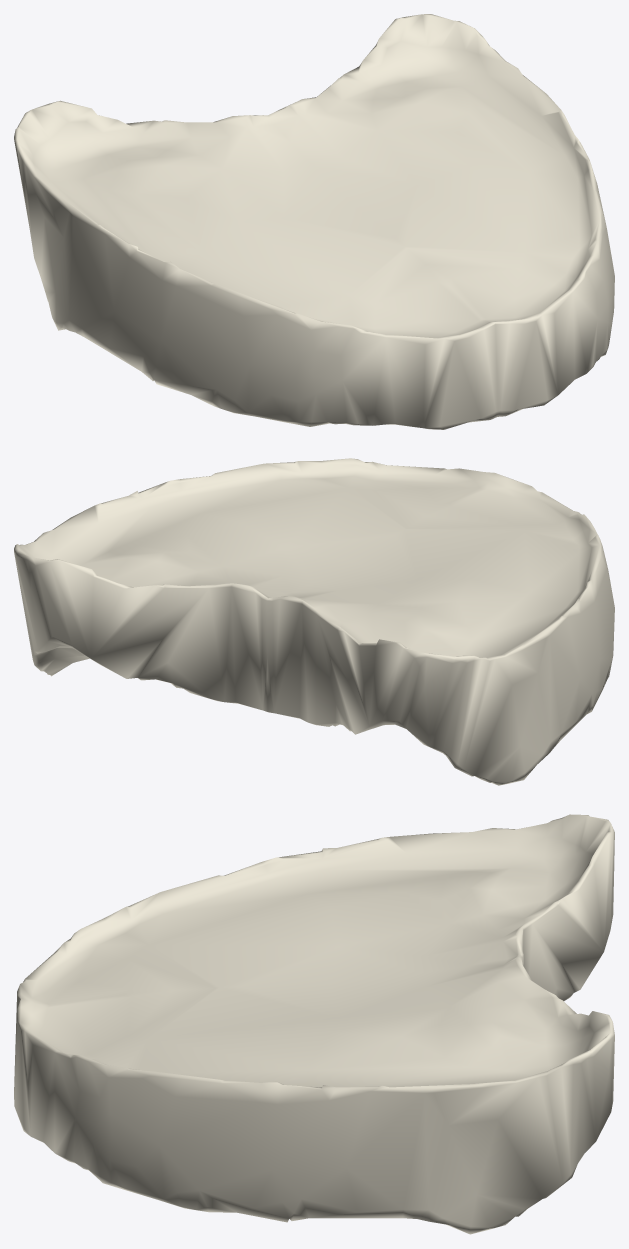
The picture shows the model from 3 angles, top to bottom: view 1: azimuth 30°, elevation 25°; view 2: azimuth 150°, elevation 25°; view 3: azimuth 270°, elevation 25°; orthographic projection. The views are drawn at different scales.
Parts seen in each view (by area): view 1: ZA_ad3b7031550fad5f; view 2: ZA_ad3b7031550fad5f; view 3: ZA_ad3b7031550fad5f.
Part boxes in pixels (bbox=[...]): ZA_ad3b7031550fad5f: bbox=[14, 14, 614, 429]; ZA_ad3b7031550fad5f: bbox=[14, 458, 614, 785]; ZA_ad3b7031550fad5f: bbox=[14, 814, 614, 1234].
Size of the model in its own units: 0.0321 by 0.0107 by 0.0315.
